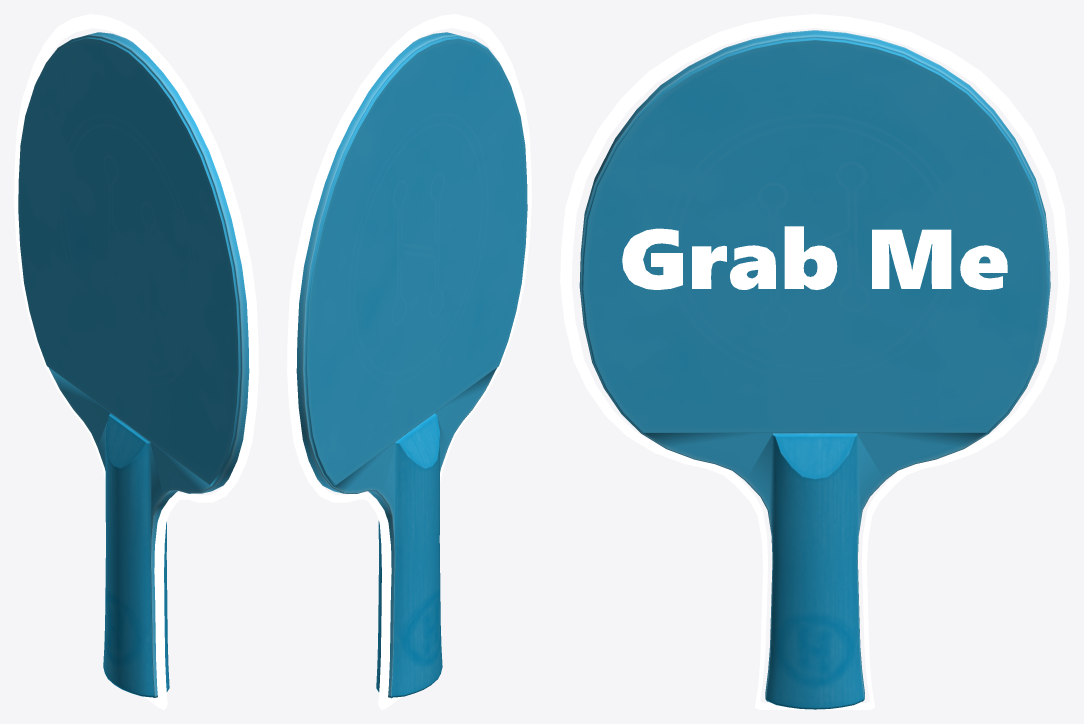
File: paddleRed_Grabbable.fbx
The picture shows the model from 3 angles, left to right: view 1: azimuth 30°, elevation 25°; view 2: azimuth 150°, elevation 25°; view 3: azimuth 270°, elevation 25°; orthographic projection. The views are drawn at different scales.
Parts seen in each view (by area): view 1: paddleblue11; view 2: paddleblue11; view 3: paddleblue11.
Part boxes in pixels (x1,y1,x2,y2): paddleblue11: (14,14,258,709); paddleblue11: (287,14,531,709); paddleblue11: (560,14,1069,709).
Bounding box in the file's own units: 2.84 × 38.91 × 25.83.
Materials: 1 (1 with a texture image).
